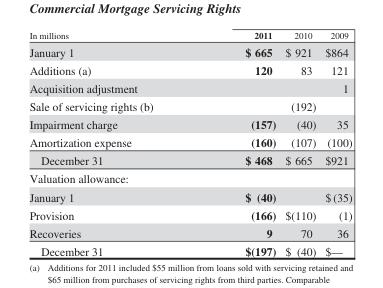table: (28, 29, 351, 257)
table column: (28, 29, 198, 257), (198, 29, 279, 257), (279, 29, 319, 257), (319, 29, 351, 257)
table column header: (28, 29, 351, 42)
table projected row header: (28, 169, 351, 187)
table row: (28, 60, 351, 79), (28, 42, 351, 60), (28, 79, 351, 97), (28, 97, 351, 115), (28, 115, 351, 133), (28, 133, 351, 151), (28, 151, 351, 169), (28, 169, 351, 187), (28, 187, 351, 205), (28, 205, 351, 223), (28, 223, 351, 241), (28, 241, 351, 257), (28, 29, 351, 42)
